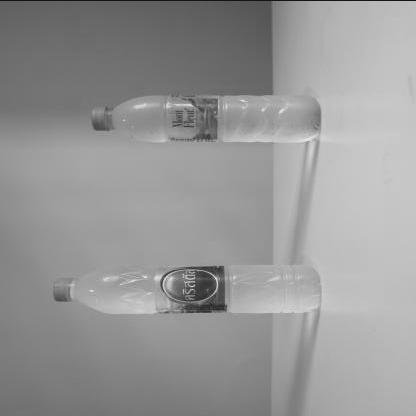bottle: (47, 260, 326, 322), (90, 88, 324, 147)
